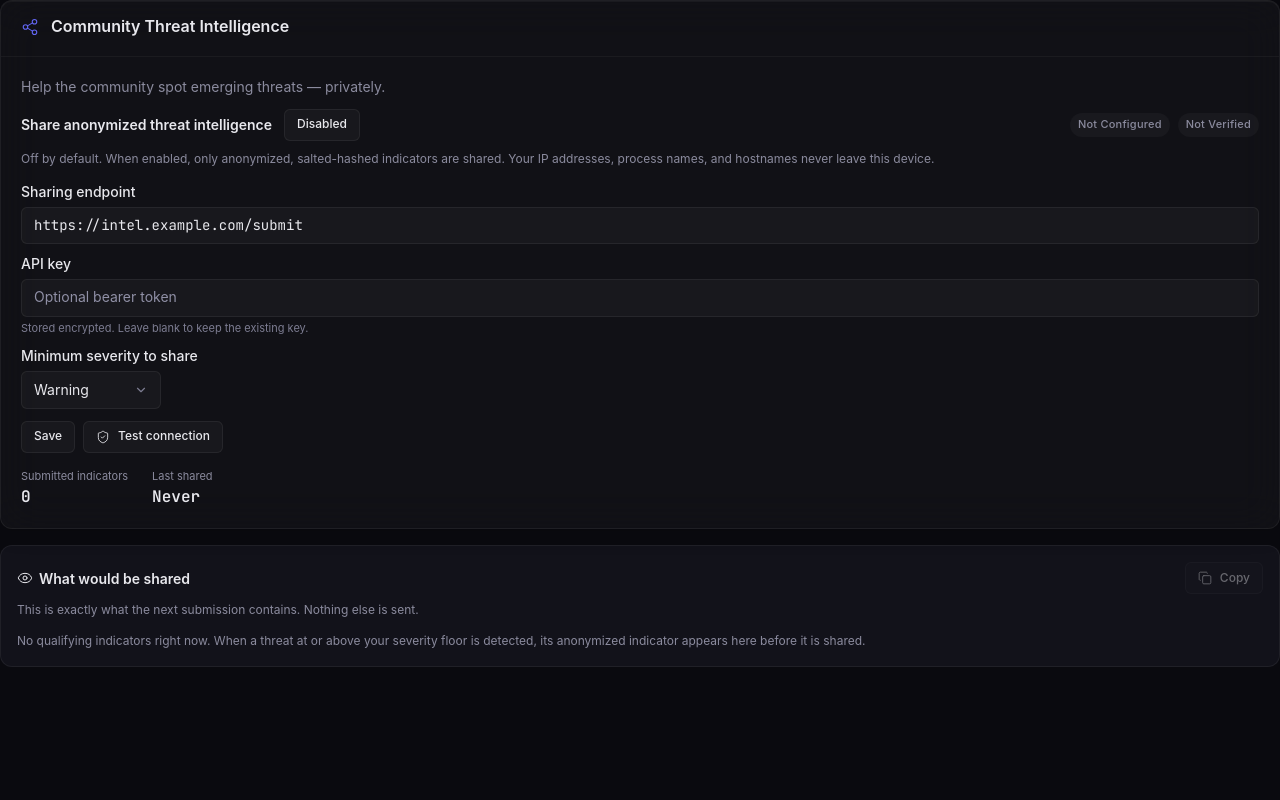
Test: CommunityView › reports the outcome of a connection test
This screenshot has width=1280, height=800.
Check: the field labelled "Sharing endpoint" is not empty, box [21,207,1259,244]
What coordinates should you click on to do the following:
click the button "Test connection"
I would click on:
 (153, 436)
Its box is [83,420,223,452].
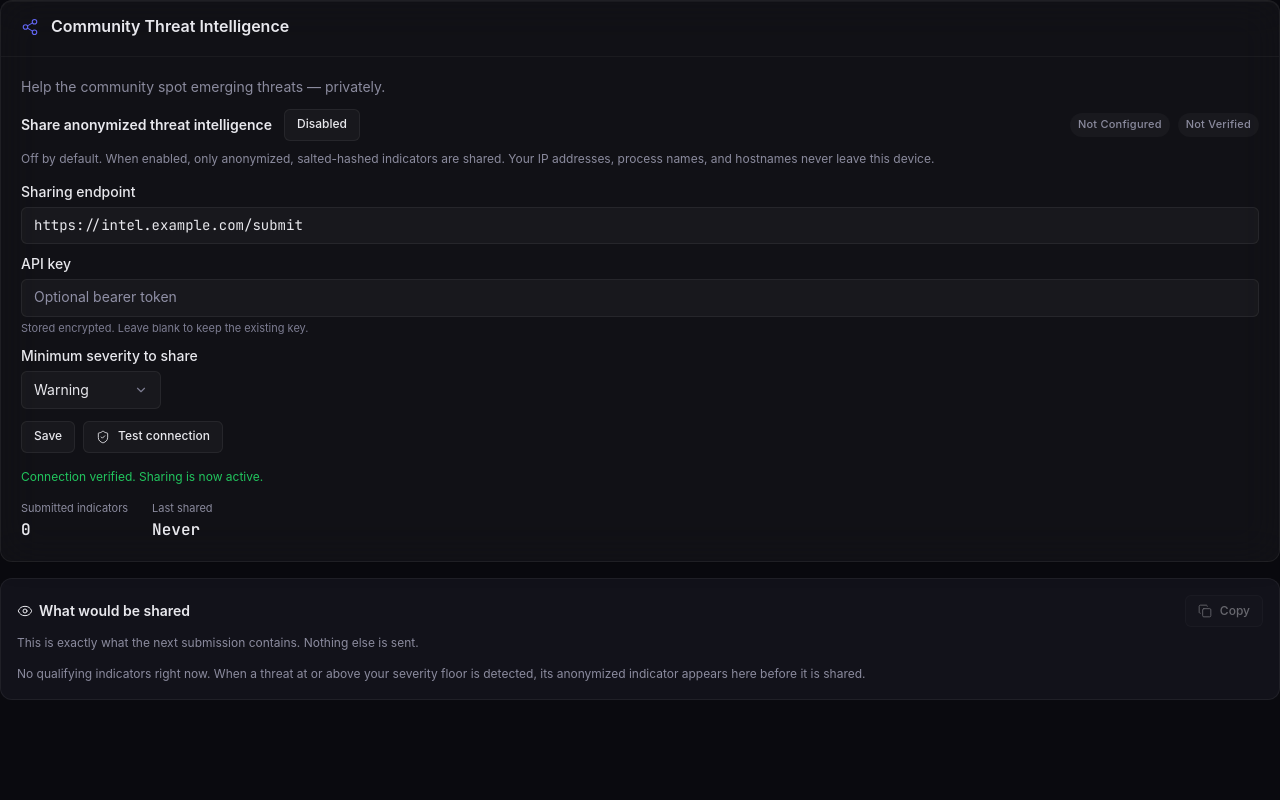
Check: the text "Connection verified. Sharing is now active." is shown, box [21,468,263,484]
